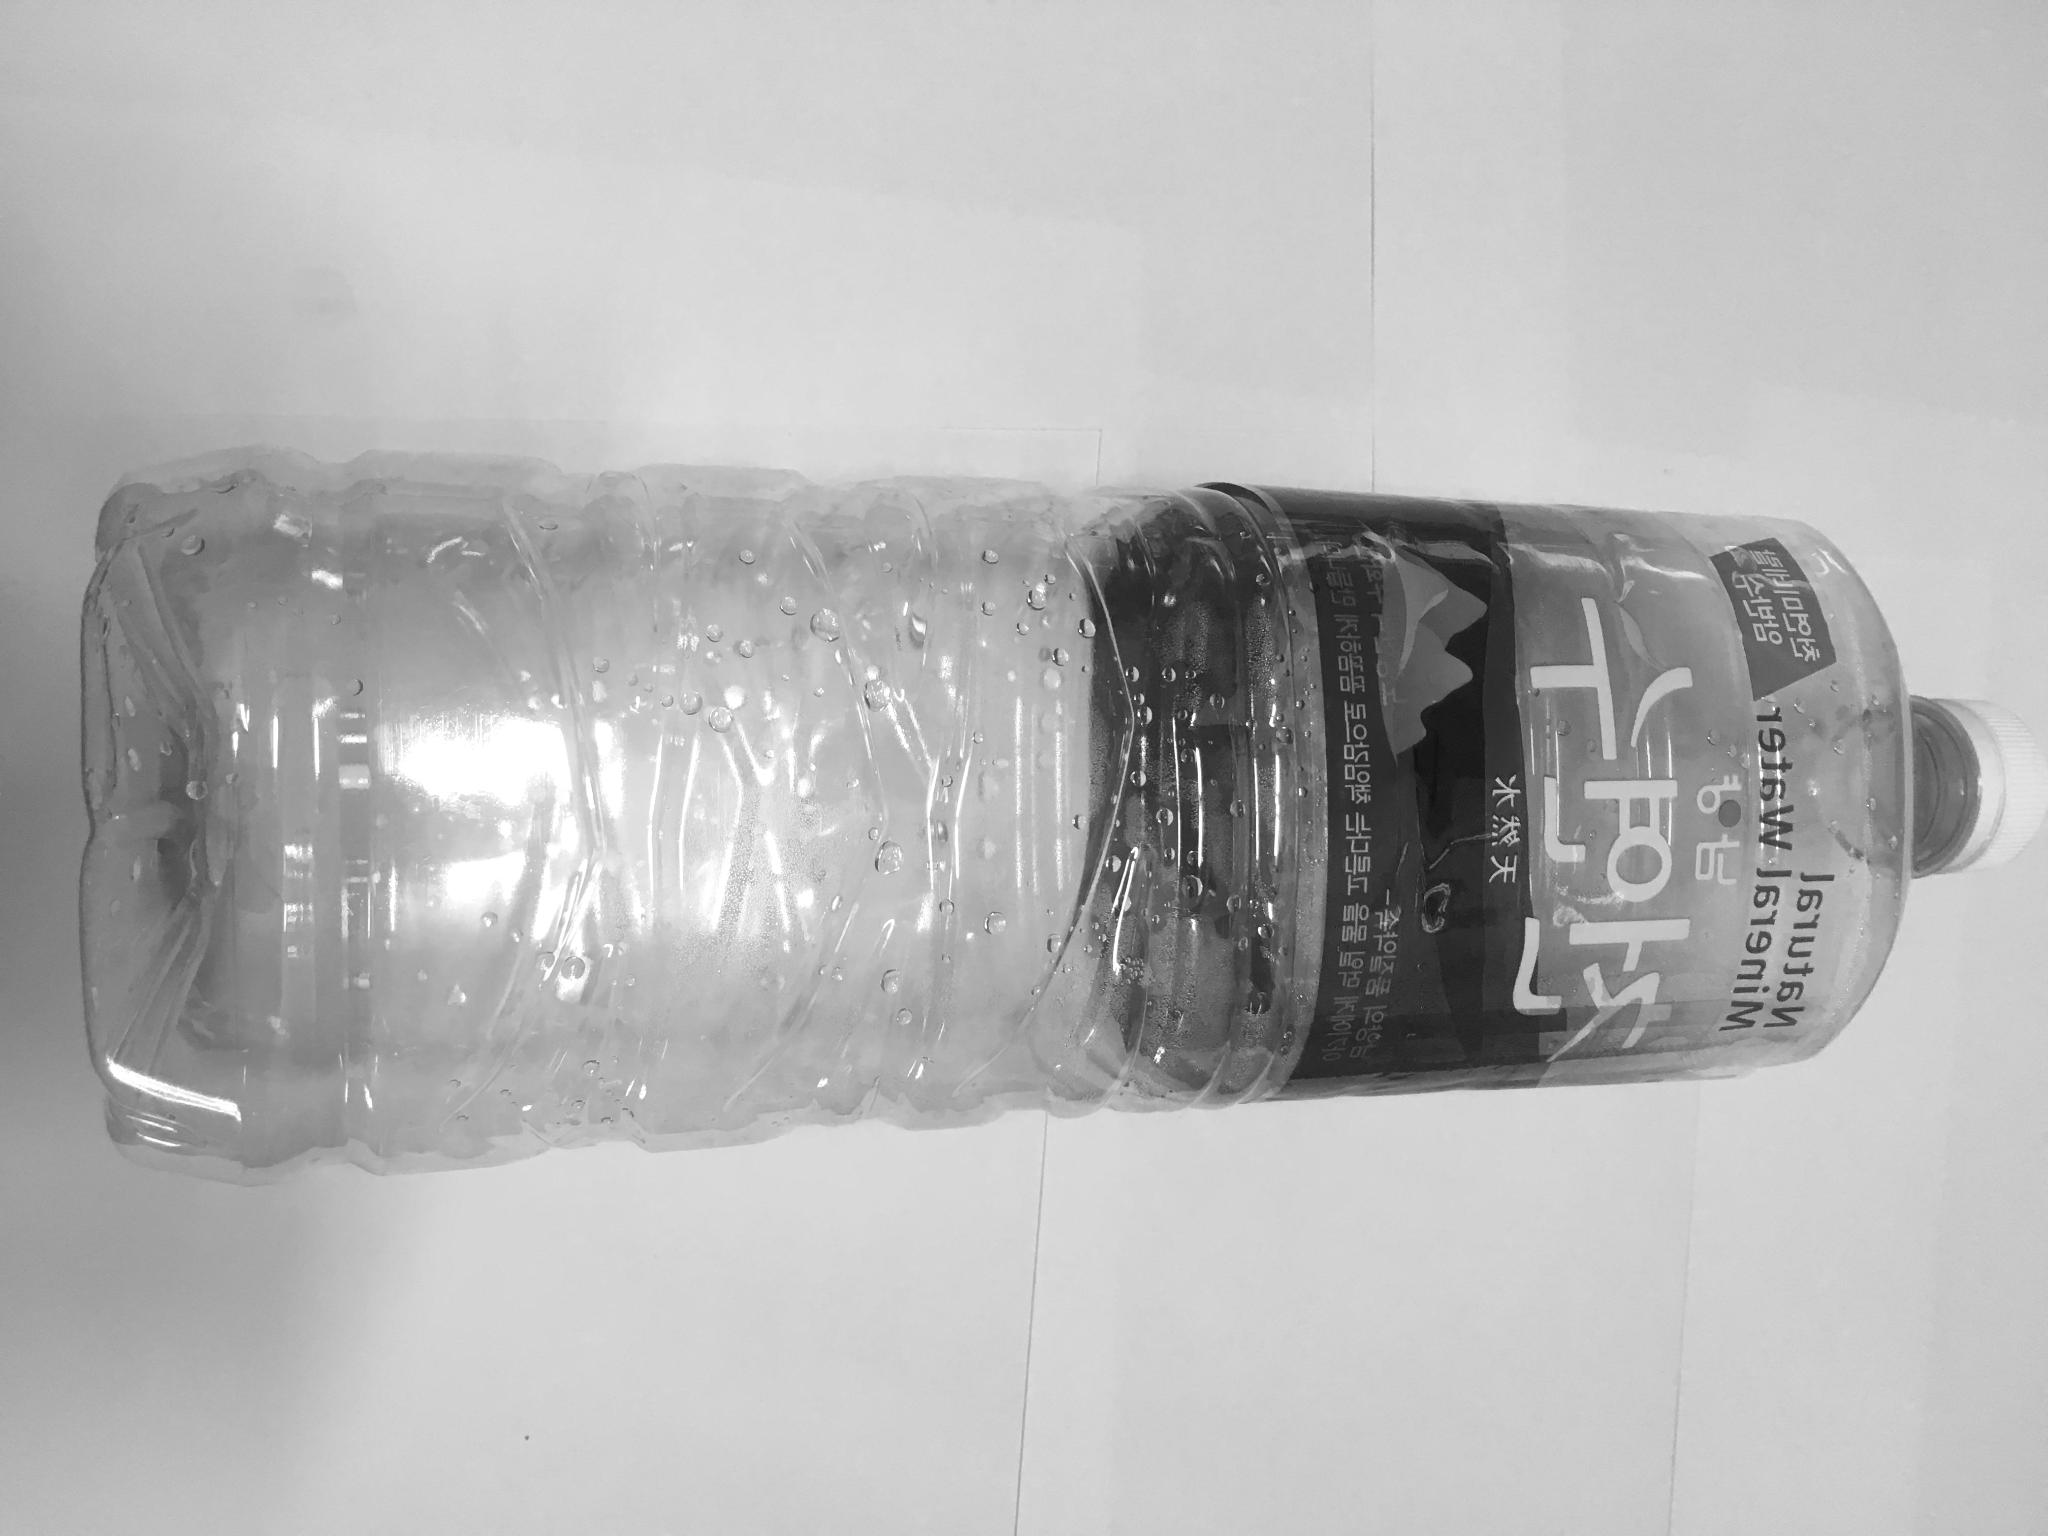bottle: (66, 451, 2014, 1195)
